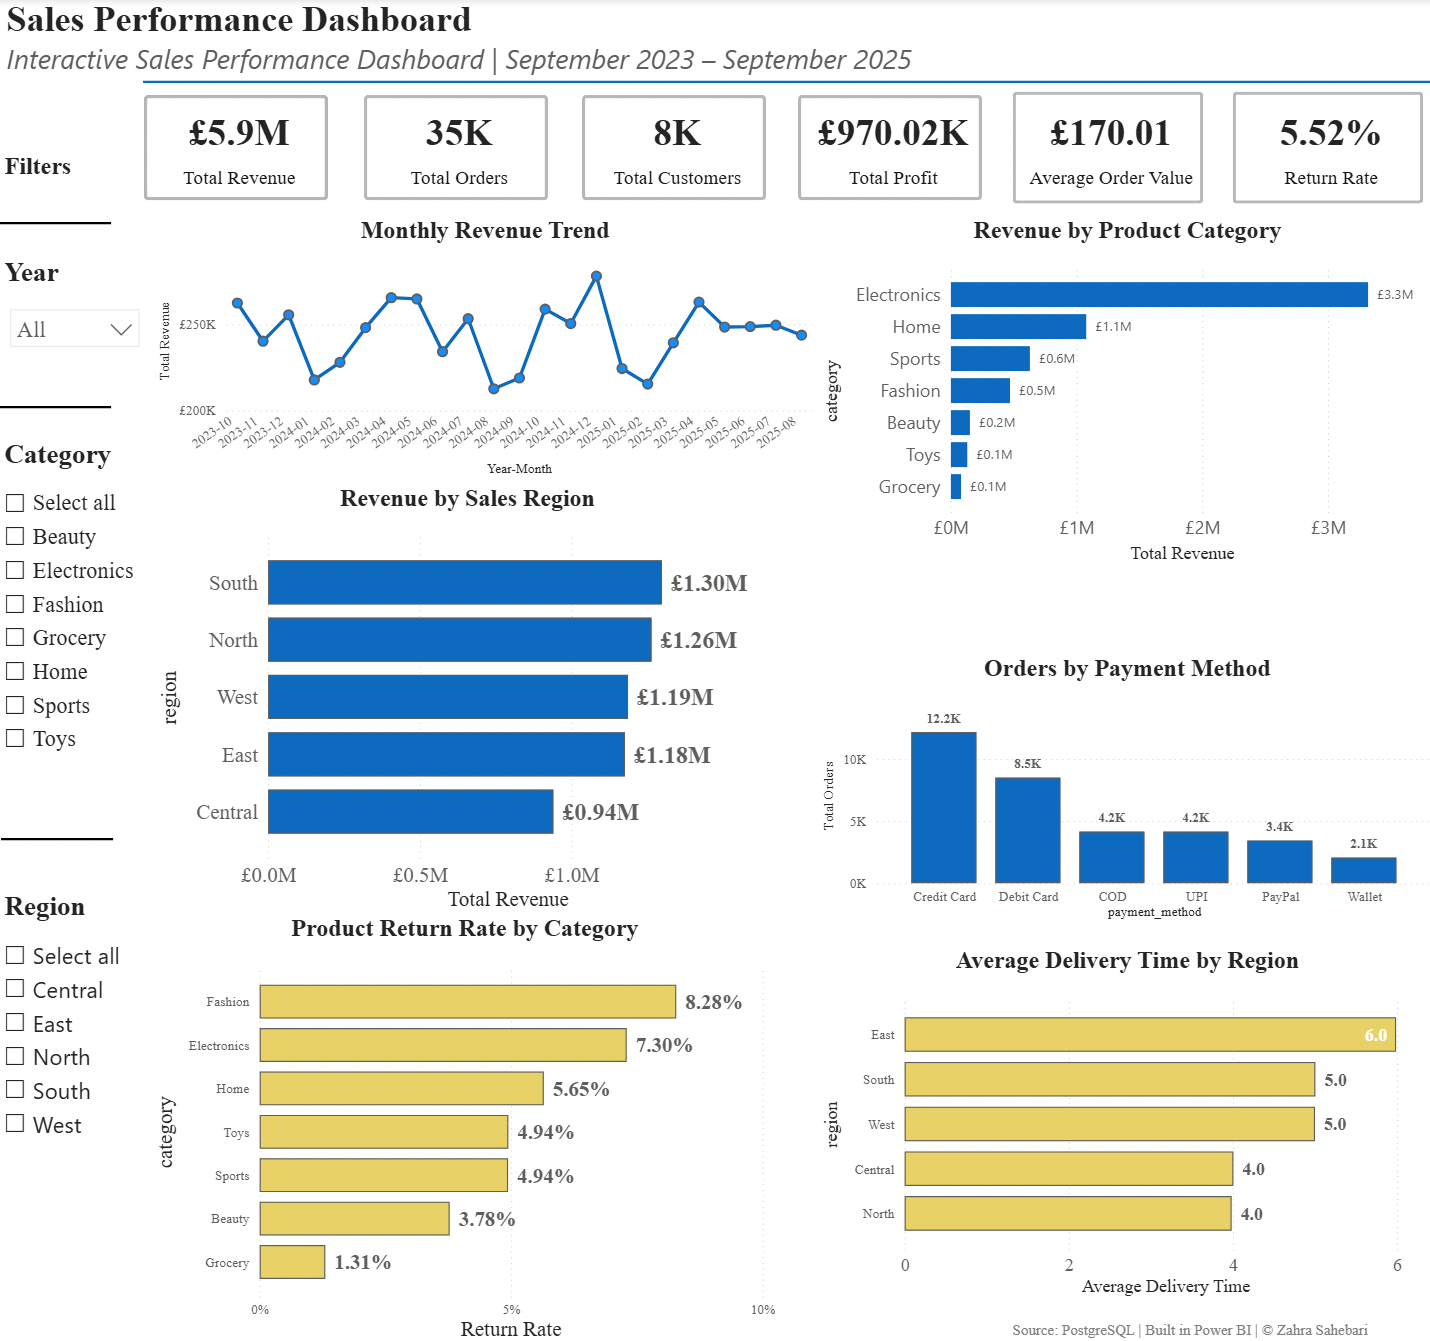

Layout of this report page (visuals, bound fields, positions):
{"tool":"powerbi","page":{"name":"Page 1","canvas":[1280,1200],"ordinal":0},"visuals":[{"type":"textbox","title":"Sales Performance Dashboard","box":[2.4,0,1270.6,163.1],"z":0},{"type":"textbox","box":[0,131.4,172.8,63.3],"z":1000},{"type":"cardVisual","fields":{"Data":["Sales.Total Orders"]},"box":[309.1,70.6,194,124],"z":2000},{"type":"cardVisual","fields":{"Data":["Sales.Total Revenue"]},"box":[114.4,70.6,194,124.1],"z":3000},{"type":"cardVisual","fields":{"Data":["Sales.Total Customers"]},"box":[503.9,70.6,194,124],"z":4000},{"type":"cardVisual","fields":{"Data":["Sales.Total Profit"]},"box":[696.1,70.6,194,124],"z":5000},{"type":"cardVisual","title":"AOV","fields":{"Data":["Sales.Average Order Value"]},"box":[890.9,70.6,194,124.1],"z":6000},{"type":"cardVisual","fields":{"Data":["Sales.Return Rate"]},"box":[1086,70.6,194,124.1],"z":7000},{"type":"clusteredBarChart","title":"Revenue by Product  Category","fields":{"Y":["Sales.Total Revenue"],"Category":["Sales.category"]},"box":[727.8,194.7,552.5,314],"z":8000},{"type":"clusteredBarChart","title":"Revenue by Sales Region","fields":{"Y":["Sales.Total Revenue"],"Category":["Sales.region"]},"box":[136.3,433.3,559.8,384.6],"z":9000},{"type":"clusteredColumnChart","title":"Orders by Payment Method","fields":{"Category":["Sales.payment_method"],"Y":["Sales.Total Orders"]},"box":[727.4,584.2,552.5,241],"z":10000},{"type":"clusteredBarChart","title":"Product Return Rate by Category","fields":{"Y":["Sales.Return Rate"],"Category":["Sales.category"]},"box":[133.9,815.4,562.3,384.6],"z":11000},{"type":"clusteredBarChart","title":"Average Delivery Time by Region","fields":{"Y":["Sales.Average Delivery Time"],"Category":["Sales.region"]},"box":[727.4,844.6,552.5,316.4],"z":12000},{"type":"slicer","title":"Year","fields":{"Values":["Date.Year"]},"box":[0,228.8,135,170],"z":13000},{"type":"lineChart","title":"Monthly Revenue Trend","fields":{"Category":["Date.Year-Month"],"Y":["Sales.Total Revenue"]},"box":[136.3,194.7,591.5,236.1],"z":14000},{"type":"listSlicer","title":"Region","fields":{"Values":["Sales.region"]},"box":[0,793.5,135,300],"z":15000},{"type":"listSlicer","title":"Category","fields":{"Values":["Sales.category"]},"box":[0,391.9,133.9,328.6],"z":16000},{"type":"shape","box":[0,133.9,100,133.9],"z":17000},{"type":"shape","box":[2.4,681.5,100,133.9],"z":18000},{"type":"shape","box":[0,297,100,133.9],"z":19000},{"type":"shape","box":[129,51.1,1146.5,46.2],"z":20000},{"type":"textbox","title":"Source: PostgreSQL | Built in Power BI | © Zahra Sahebari","box":[847.1,1178.1,426,21.9],"z":21000}]}

Visuals, with their boxes in screenshot pixels (x1, y1, x2, y2), scaled from the page's 1280x1200 canvas onto the 1430x1341 screenshot:
"Sales Performance Dashboard" textbox: {"left": 3, "top": 0, "right": 1422, "bottom": 182}
textbox: {"left": 0, "top": 147, "right": 193, "bottom": 218}
cardVisual - Sales.Total Orders: {"left": 345, "top": 79, "right": 562, "bottom": 217}
cardVisual - Sales.Total Revenue: {"left": 128, "top": 79, "right": 345, "bottom": 218}
cardVisual - Sales.Total Customers: {"left": 563, "top": 79, "right": 780, "bottom": 217}
cardVisual - Sales.Total Profit: {"left": 778, "top": 79, "right": 994, "bottom": 217}
"AOV" cardVisual: {"left": 995, "top": 79, "right": 1212, "bottom": 218}
cardVisual - Sales.Return Rate: {"left": 1213, "top": 79, "right": 1429, "bottom": 218}
"Revenue by Product  Category" clusteredBarChart: {"left": 813, "top": 218, "right": 1429, "bottom": 568}
"Revenue by Sales Region" clusteredBarChart: {"left": 152, "top": 484, "right": 778, "bottom": 914}
"Orders by Payment Method" clusteredColumnChart: {"left": 813, "top": 653, "right": 1429, "bottom": 922}
"Product Return Rate by Category" clusteredBarChart: {"left": 150, "top": 911, "right": 778, "bottom": 1340}
"Average Delivery Time by Region" clusteredBarChart: {"left": 813, "top": 944, "right": 1429, "bottom": 1297}
"Year" slicer: {"left": 0, "top": 256, "right": 151, "bottom": 446}
"Monthly Revenue Trend" lineChart: {"left": 152, "top": 218, "right": 813, "bottom": 481}
"Region" listSlicer: {"left": 0, "top": 887, "right": 151, "bottom": 1222}
"Category" listSlicer: {"left": 0, "top": 438, "right": 150, "bottom": 805}
shape: {"left": 0, "top": 150, "right": 112, "bottom": 299}
shape: {"left": 3, "top": 762, "right": 114, "bottom": 911}
shape: {"left": 0, "top": 332, "right": 112, "bottom": 482}
shape: {"left": 144, "top": 57, "right": 1425, "bottom": 109}
"Source: PostgreSQL | Built in Power BI | © Zahra Sahebari" textbox: {"left": 946, "top": 1317, "right": 1422, "bottom": 1340}
